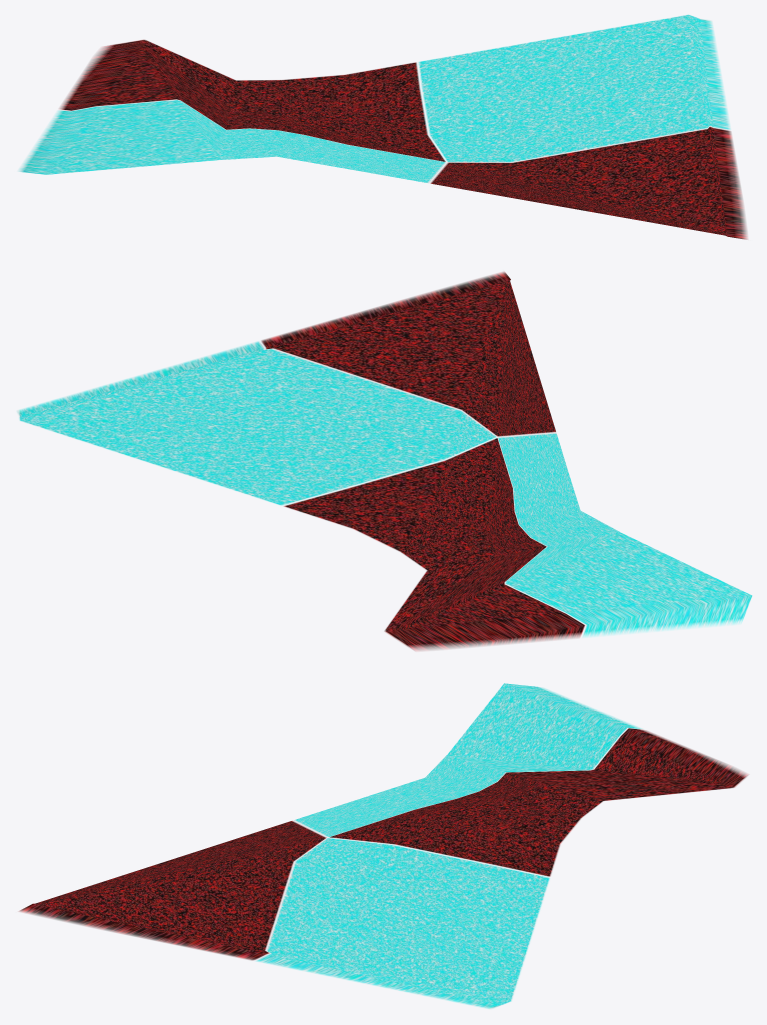
The picture shows the model from 3 angles, top to bottom: view 1: azimuth 30°, elevation 25°; view 2: azimuth 150°, elevation 25°; view 3: azimuth 270°, elevation 25°; orthographic projection. The views are drawn at different scales.
Parts seen in each view (by area): view 1: SM_VFX_FH_Lake01_LOD0; view 2: SM_VFX_FH_Lake01_LOD0; view 3: SM_VFX_FH_Lake01_LOD0.
Boxes of the visible parts, x1,y1,x2,y2 form: SM_VFX_FH_Lake01_LOD0: (18,14,747,239); SM_VFX_FH_Lake01_LOD0: (17,272,752,650); SM_VFX_FH_Lake01_LOD0: (19,683,747,1008).
Bounding box in the file's own units: 79.65 × 1.09 × 75.08.
1 material, 1 textured.
